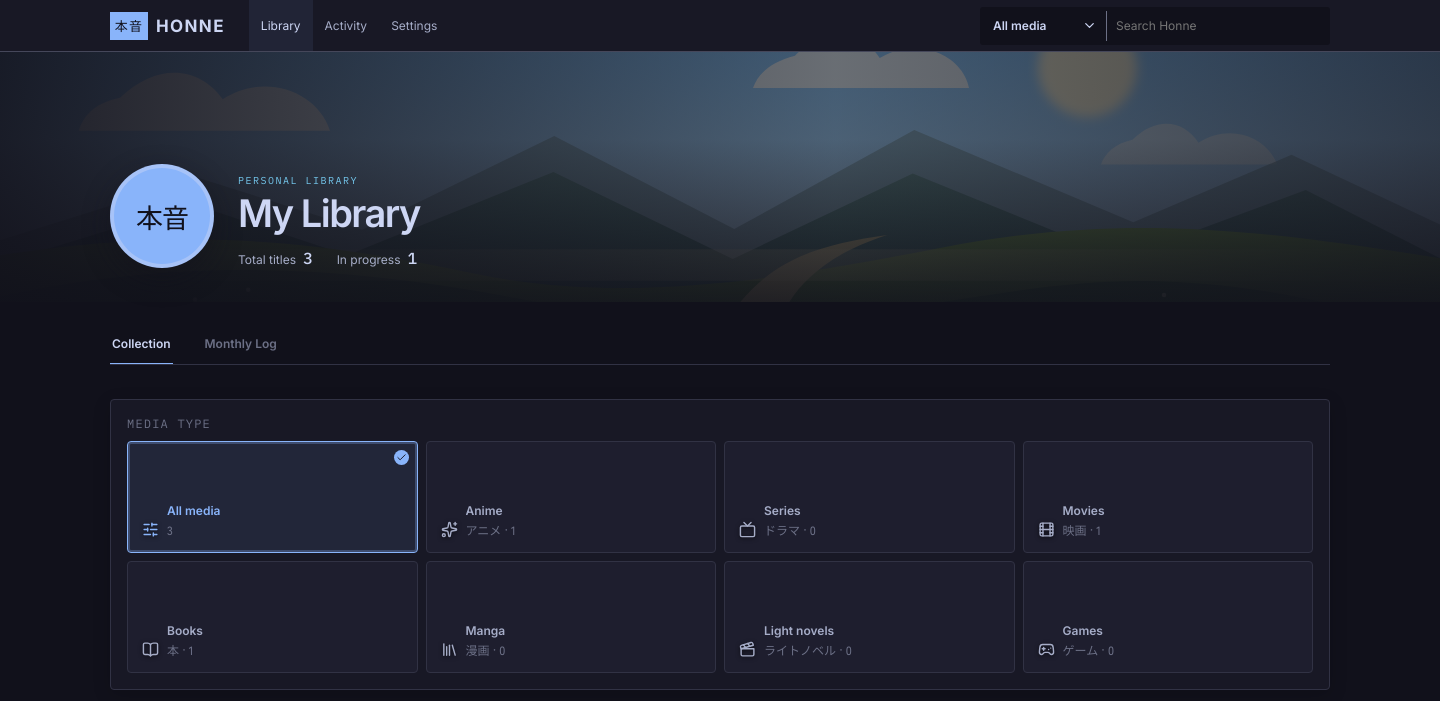
Test: Library characterization › groups full search results, filters types, and retries partial catalogs
Type "Mix" into the dropdown labelled "Search Honne". click: (1216, 26)
box: [1114,17,1319,34]
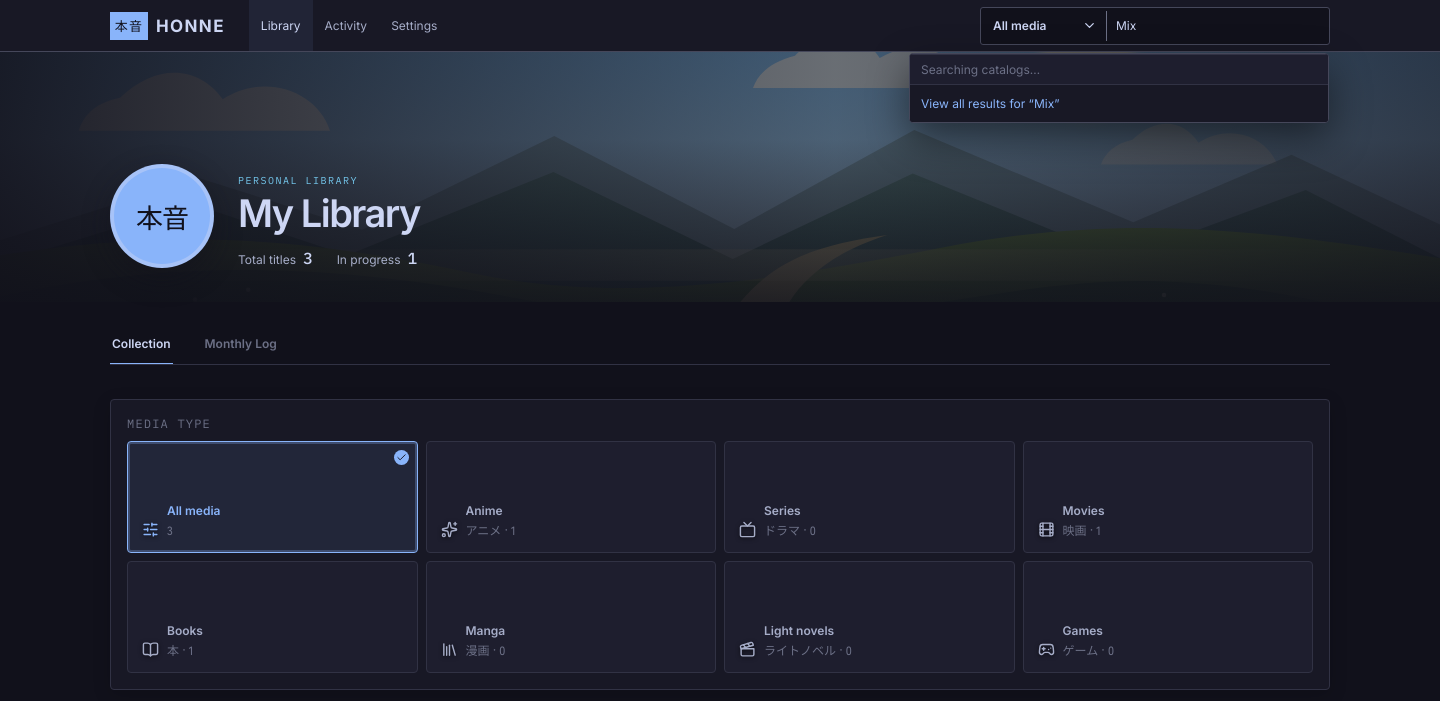
Press Enter
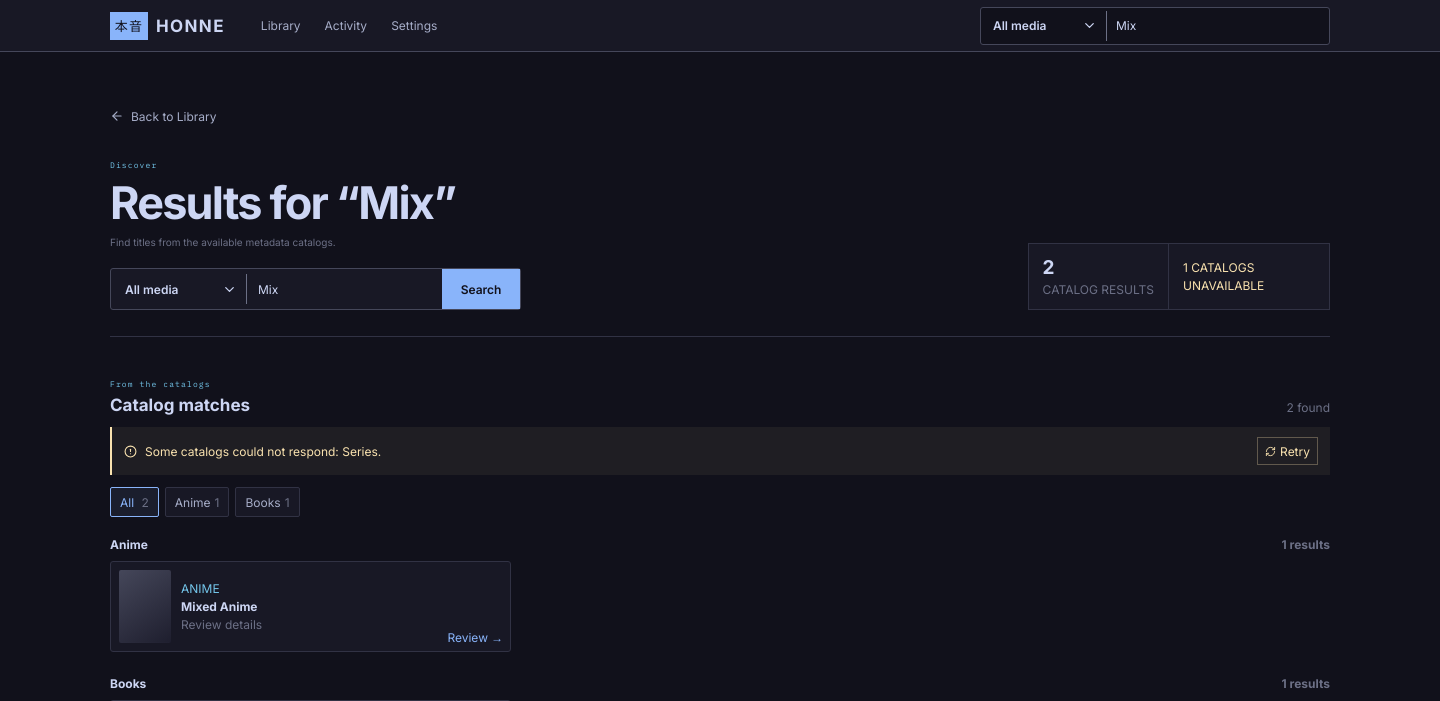
Check: the heading "Results for “Mix”" is shown, box [110,175,455,230]
Check: the button with aria-label "Review Mixed Anime from Anime" is shown, box [110,561,511,652]
Check: the text "Some catalogs could not respond: Series." is shown, box [145,444,381,459]
Click the button "Books1". click: (268, 502)
box: [236,487,300,517]
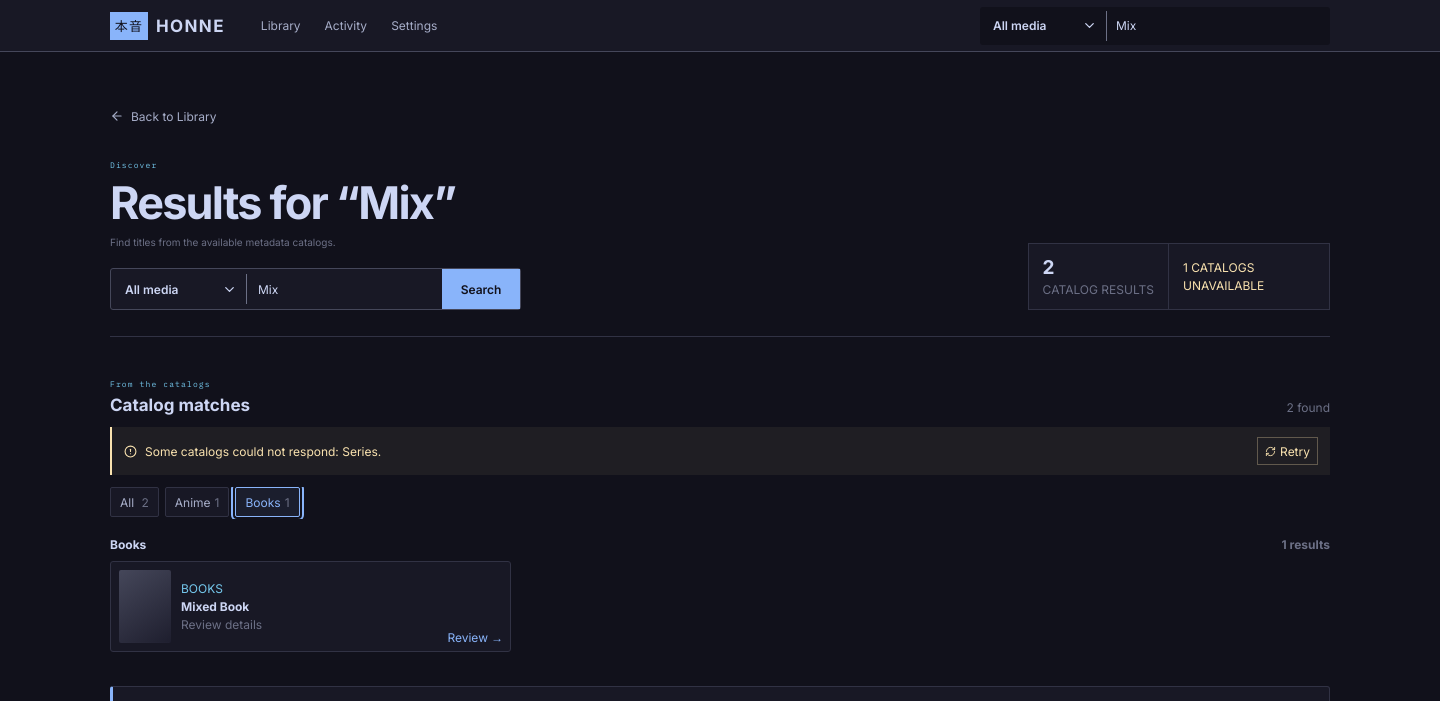
Check: the button with aria-label "Review Mixed Book from Books" is shown, box [110,561,511,652]
Click the button "Retry". click: (1288, 451)
box: [1257,437,1318,465]
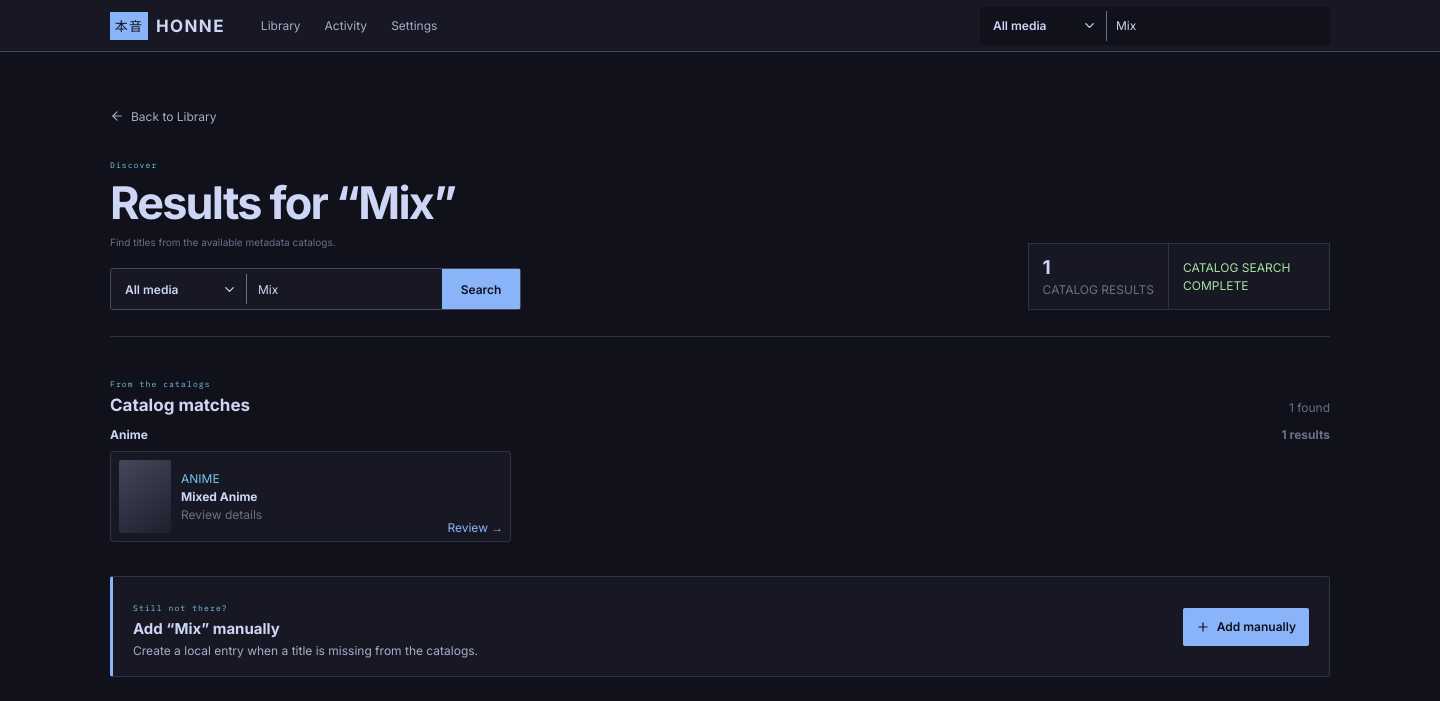
Check: the button with aria-label "Review Mixed Anime from Anime" is shown, box [110,451,511,542]
Check: the button "Books1" is gone
